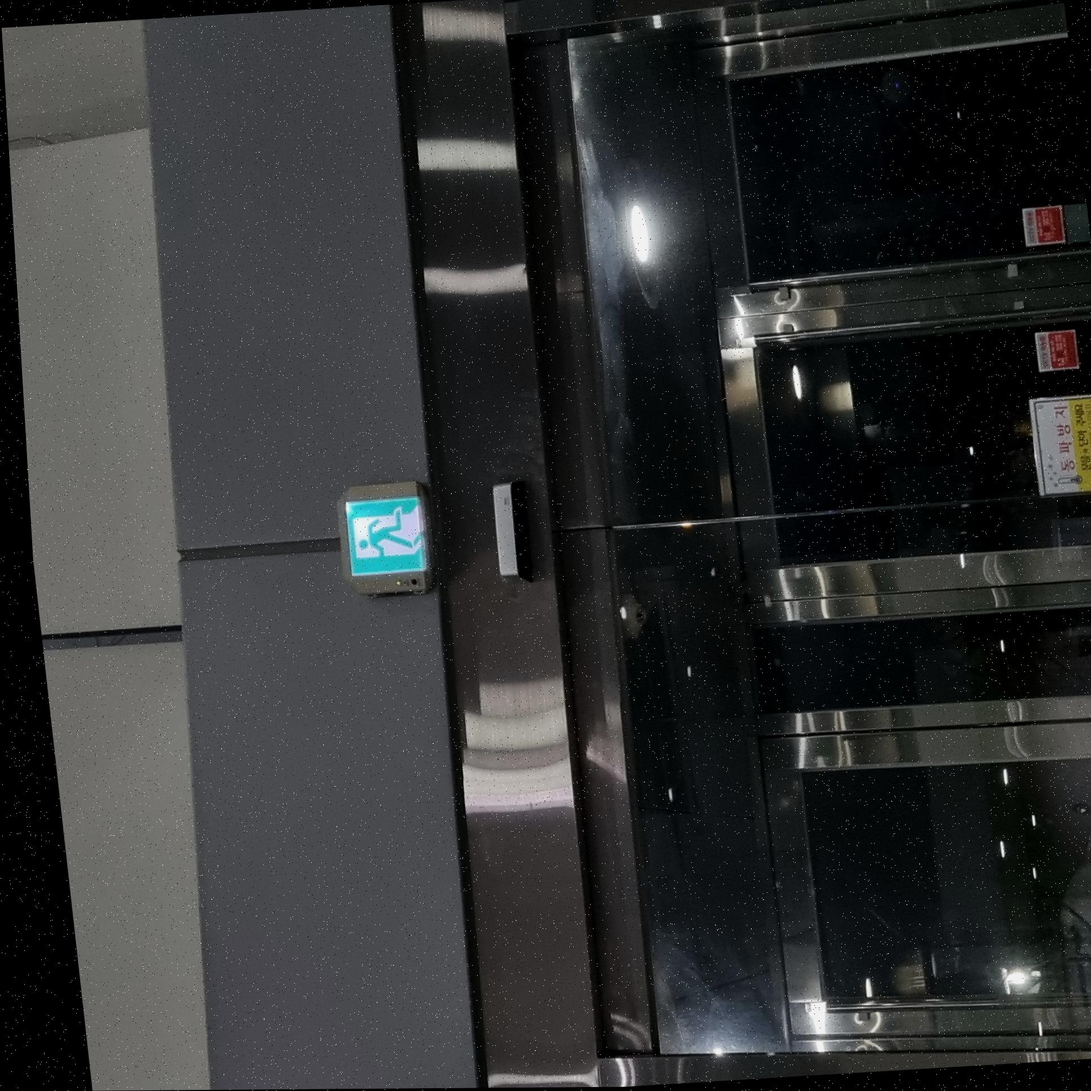emergency_exit: (336, 478, 435, 595), (1028, 393, 1089, 498), (1032, 326, 1081, 374)
